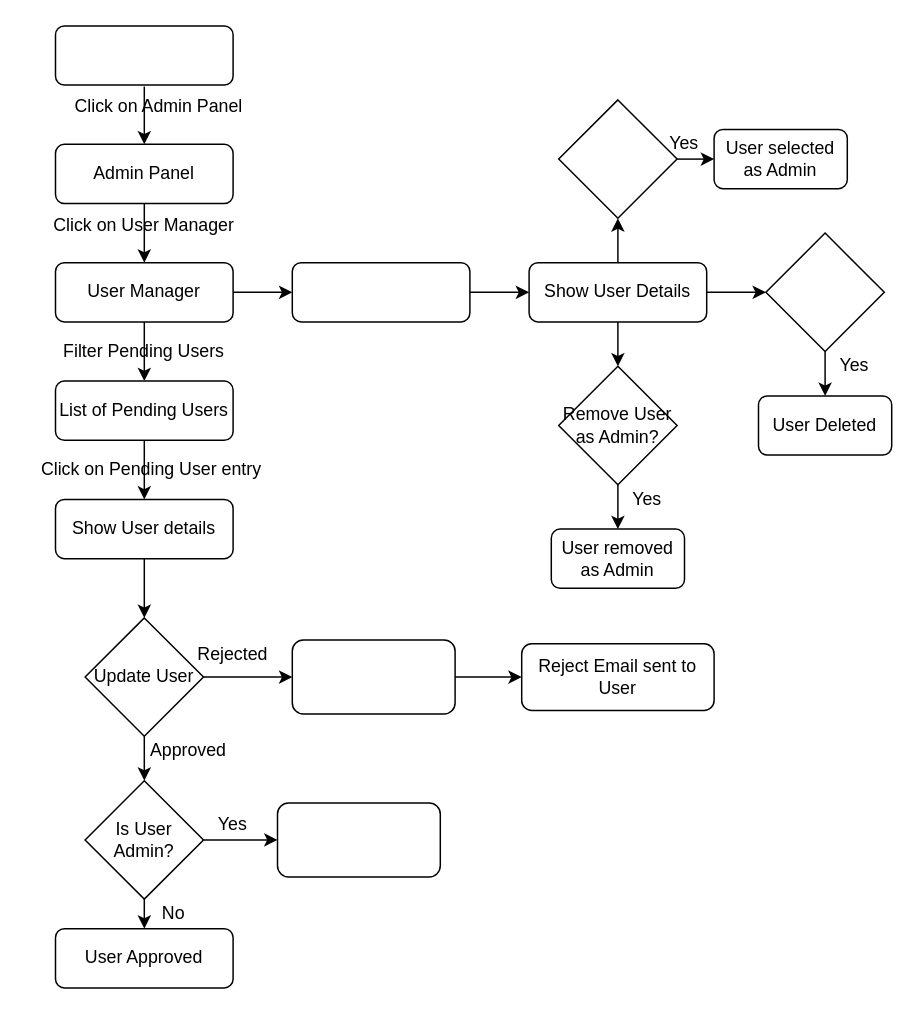
The diagram is 918 pixels wide and 1014 high, and some of its shapes have lost their labels. Here are the shapes that lost their labels. From the top down, the centre of each, then its label:
At pixel 143 54: "Login".
At pixel 617 158: "Make User Admin?".
At pixel 380 291: "Click on Approved User".
At pixel 824 292: "Delete User?".
At pixel 373 676: "Add Reject Reason".
At pixel 358 839: "User Approved and selected as Admin".
